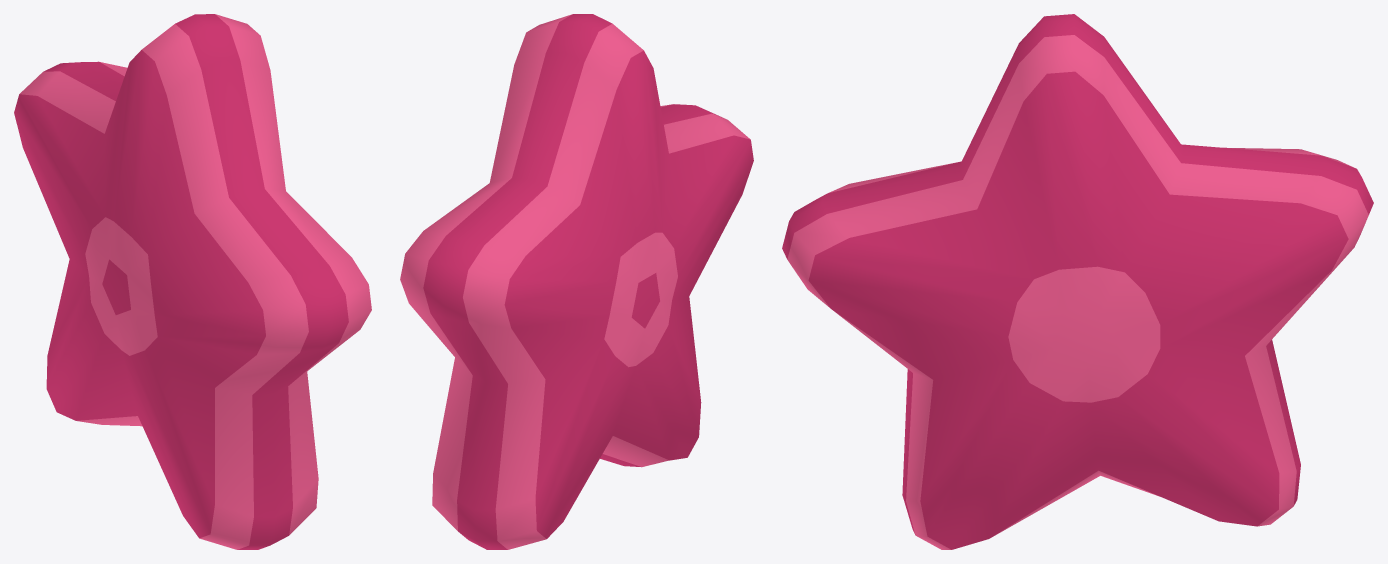
The model's file is star.glb.
3 renders of one model, left to right at view 1: azimuth 30°, elevation 25°; view 2: azimuth 150°, elevation 25°; view 3: azimuth 270°, elevation 25°, orthographic. The views are drawn at different scales.
Visible parts, largest first — view 1: Cylinder.005; view 2: Cylinder.005; view 3: Cylinder.005.
Part boxes in pixels (x1=…): Cylinder.005: x1=14, y1=14, x2=371, y2=549; Cylinder.005: x1=400, y1=14, x2=753, y2=549; Cylinder.005: x1=782, y1=14, x2=1373, y2=549.
Bounding box in the file's own units: 0.6488 × 2.08 × 2.13.
1 material, 1 textured.
